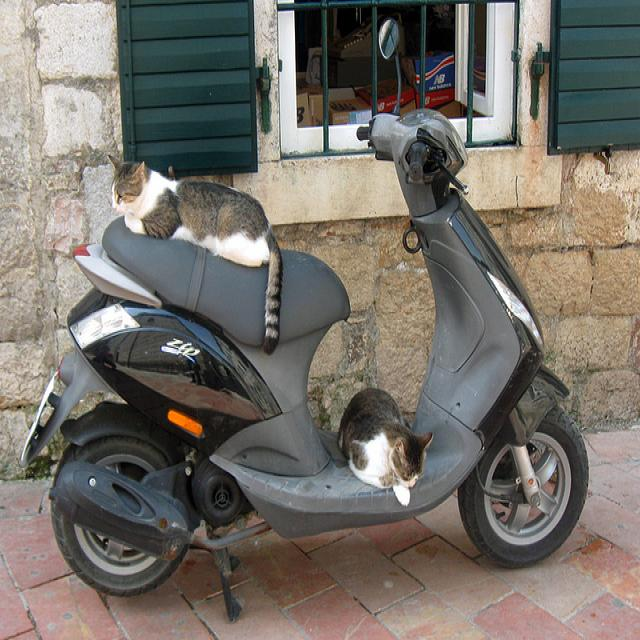motor: (19, 19, 589, 618)
